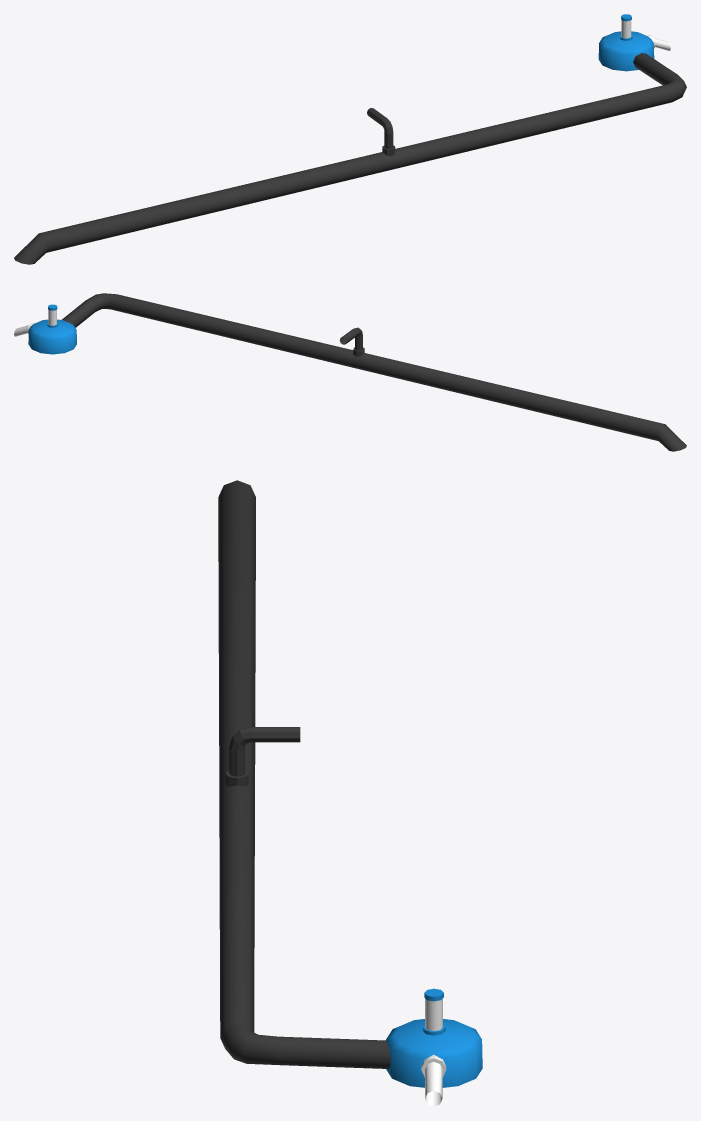
Rendered from FossaSeptica.fbx.
3 renders of one model, top to bottom at view 1: azimuth 30°, elevation 25°; view 2: azimuth 150°, elevation 25°; view 3: azimuth 270°, elevation 25°, orthographic. The views are drawn at different scales.
Visible parts, largest first — view 1: Tubulacao_1.001, FossaSeptica; view 2: Tubulacao_1.001, FossaSeptica; view 3: Tubulacao_1.001, FossaSeptica.
Boxes of the visible parts, x1,y1,x2,y2 form: Tubulacao_1.001: (14,53,686,264); FossaSeptica: (598,14,670,71); Tubulacao_1.001: (62,293,686,451); FossaSeptica: (14,304,76,354); Tubulacao_1.001: (218,480,390,1068); FossaSeptica: (386,988,482,1106).
Size of the model in its own units: 4416 by 317 by 815.
